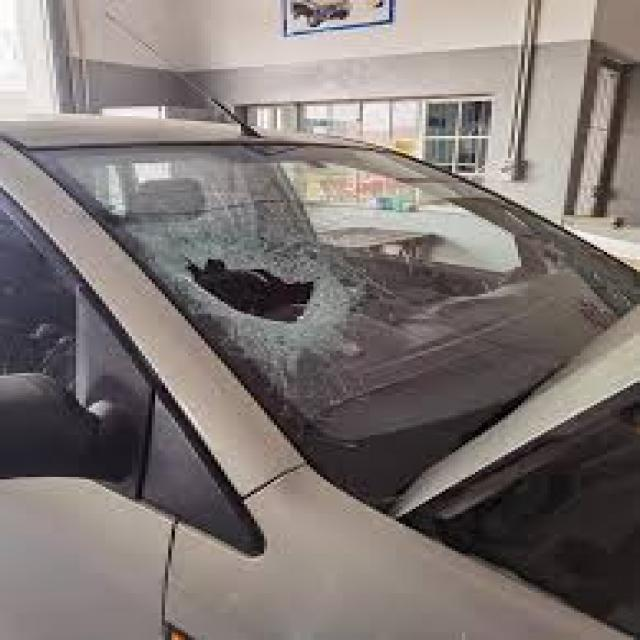damaged-windscreen: (20, 134, 640, 448)
